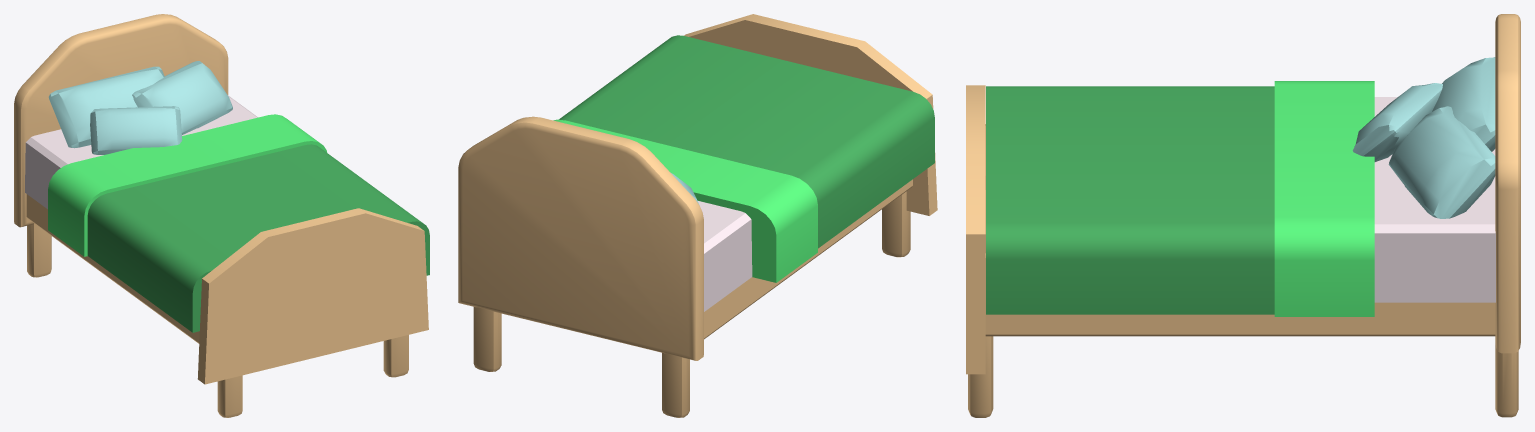
The model's file is bed.fbx.
3 renders of one model, left to right at view 1: azimuth 30°, elevation 25°; view 2: azimuth 150°, elevation 25°; view 3: azimuth 270°, elevation 25°, orthographic. The views are drawn at different scales.
Parts seen in each view (by area): view 1: bed; view 2: bed; view 3: bed.
Boxes of the visible parts, left/top/right/bottom form: bed: left=14, top=14, right=429, bottom=417; bed: left=458, top=14, right=937, bottom=417; bed: left=966, top=14, right=1520, bottom=417.
Bounding box in the file's own units: 71.99 × 64.66 × 103.
